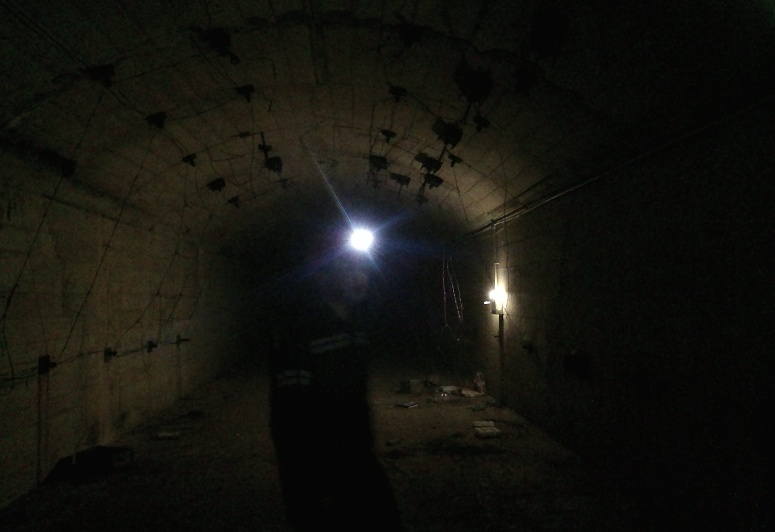person: (253, 225, 391, 532)
